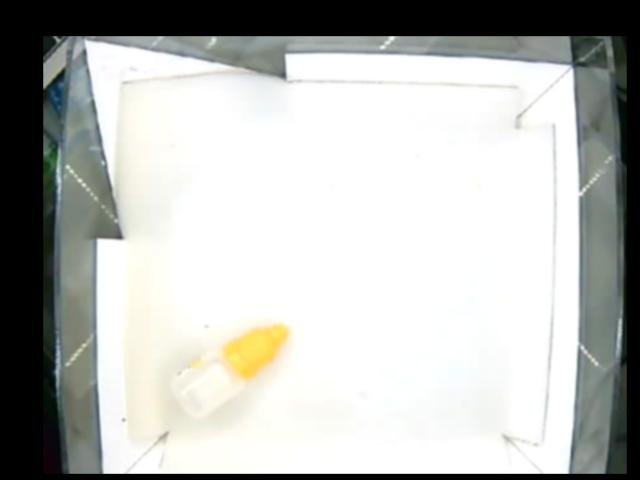Bottle: (168, 322, 289, 418)
